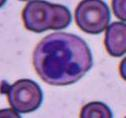N: (32, 32, 91, 85)
